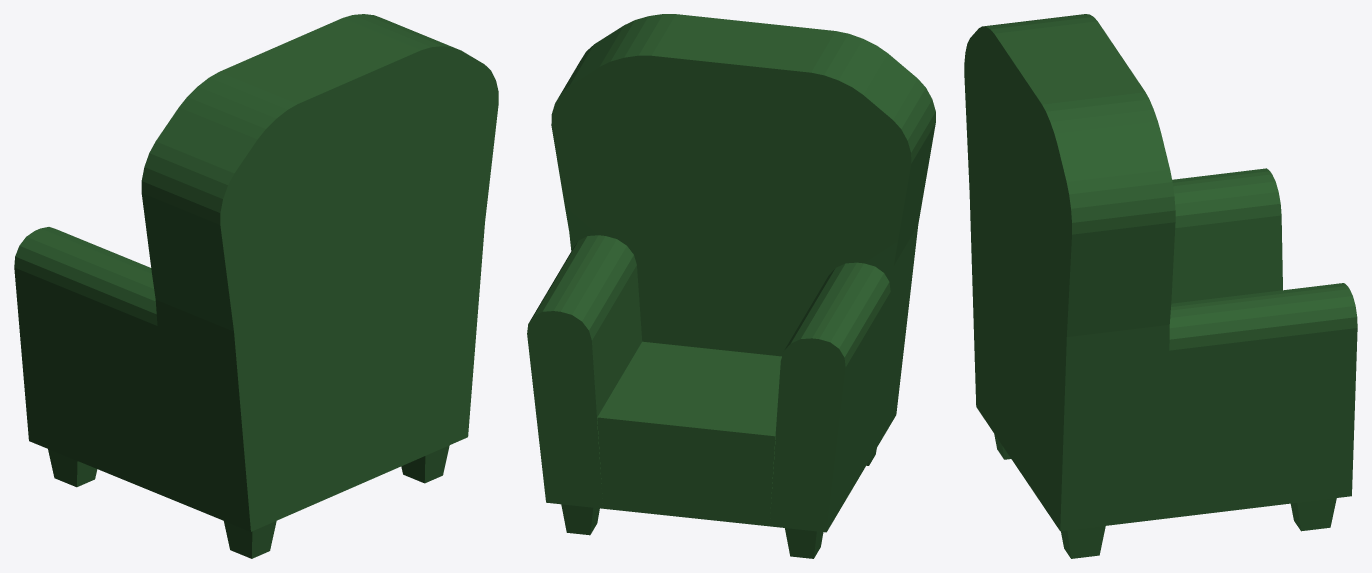
Rendered from Armchair.fbx.
The picture shows the model from 3 angles, left to right: view 1: azimuth 30°, elevation 25°; view 2: azimuth 150°, elevation 25°; view 3: azimuth 270°, elevation 25°; orthographic projection. The views are drawn at different scales.
Parts seen in each view (by area): view 1: Armchair; view 2: Armchair; view 3: Armchair.
Part boxes in pixels (box(x1,y1,x2,y2)): Armchair: box(14, 14, 498, 558); Armchair: box(527, 14, 935, 558); Armchair: box(964, 14, 1357, 558).
Bounding box in the file's own units: 2258 × 2477 × 2021.
